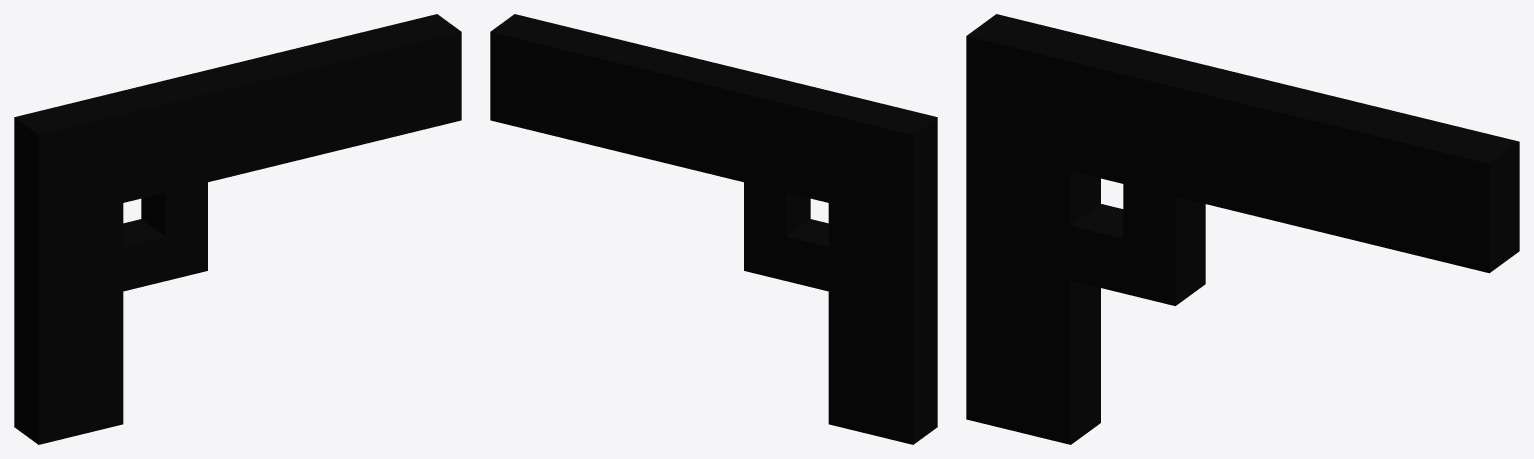
File: gun.gltf
3 renders of one model, left to right at view 1: azimuth 30°, elevation 25°; view 2: azimuth 150°, elevation 25°; view 3: azimuth 330°, elevation 25°, orthographic. The views are drawn at different scales.
Parts seen in each view (by area): view 1: Layer.1; view 2: Layer.1; view 3: Layer.1.
Boxes of the visible parts, x1,y1,x2,y2 form: Layer.1: (14, 14, 461, 444); Layer.1: (490, 14, 937, 444); Layer.1: (966, 14, 1519, 444).
Size of the model in its own units: 10 by 7 by 1.
1 material, 1 textured.
